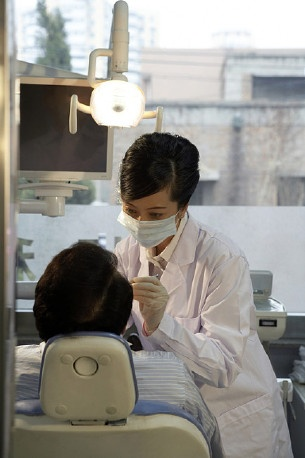Mask: (120, 195, 175, 250)
